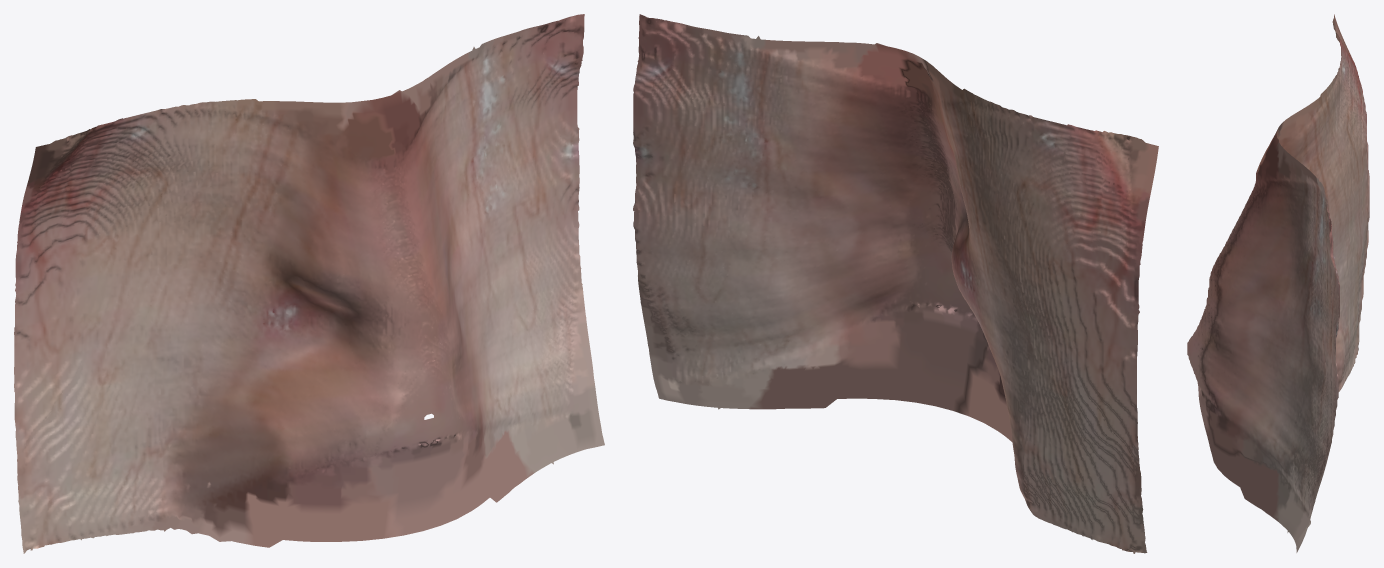
The model's file is lesion (13).gltf.
3 views of the same model, side by side, from view 1: azimuth 30°, elevation 25°; view 2: azimuth 150°, elevation 25°; view 3: azimuth 270°, elevation 25° (orthographic). The views are drawn at different scales.
Bounding box in the file's own units: 0.00152 × 0.00112 × 0.000553.
